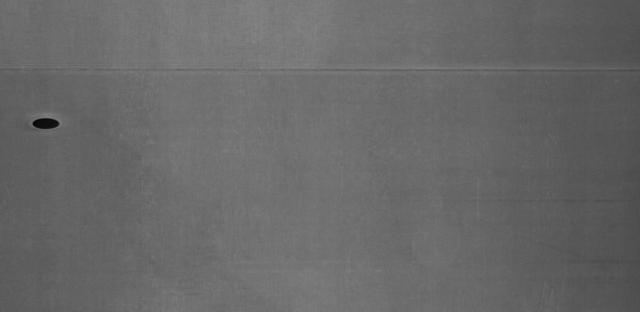punching_hole: (28, 114, 61, 132)
welding_line: (2, 62, 638, 81)
